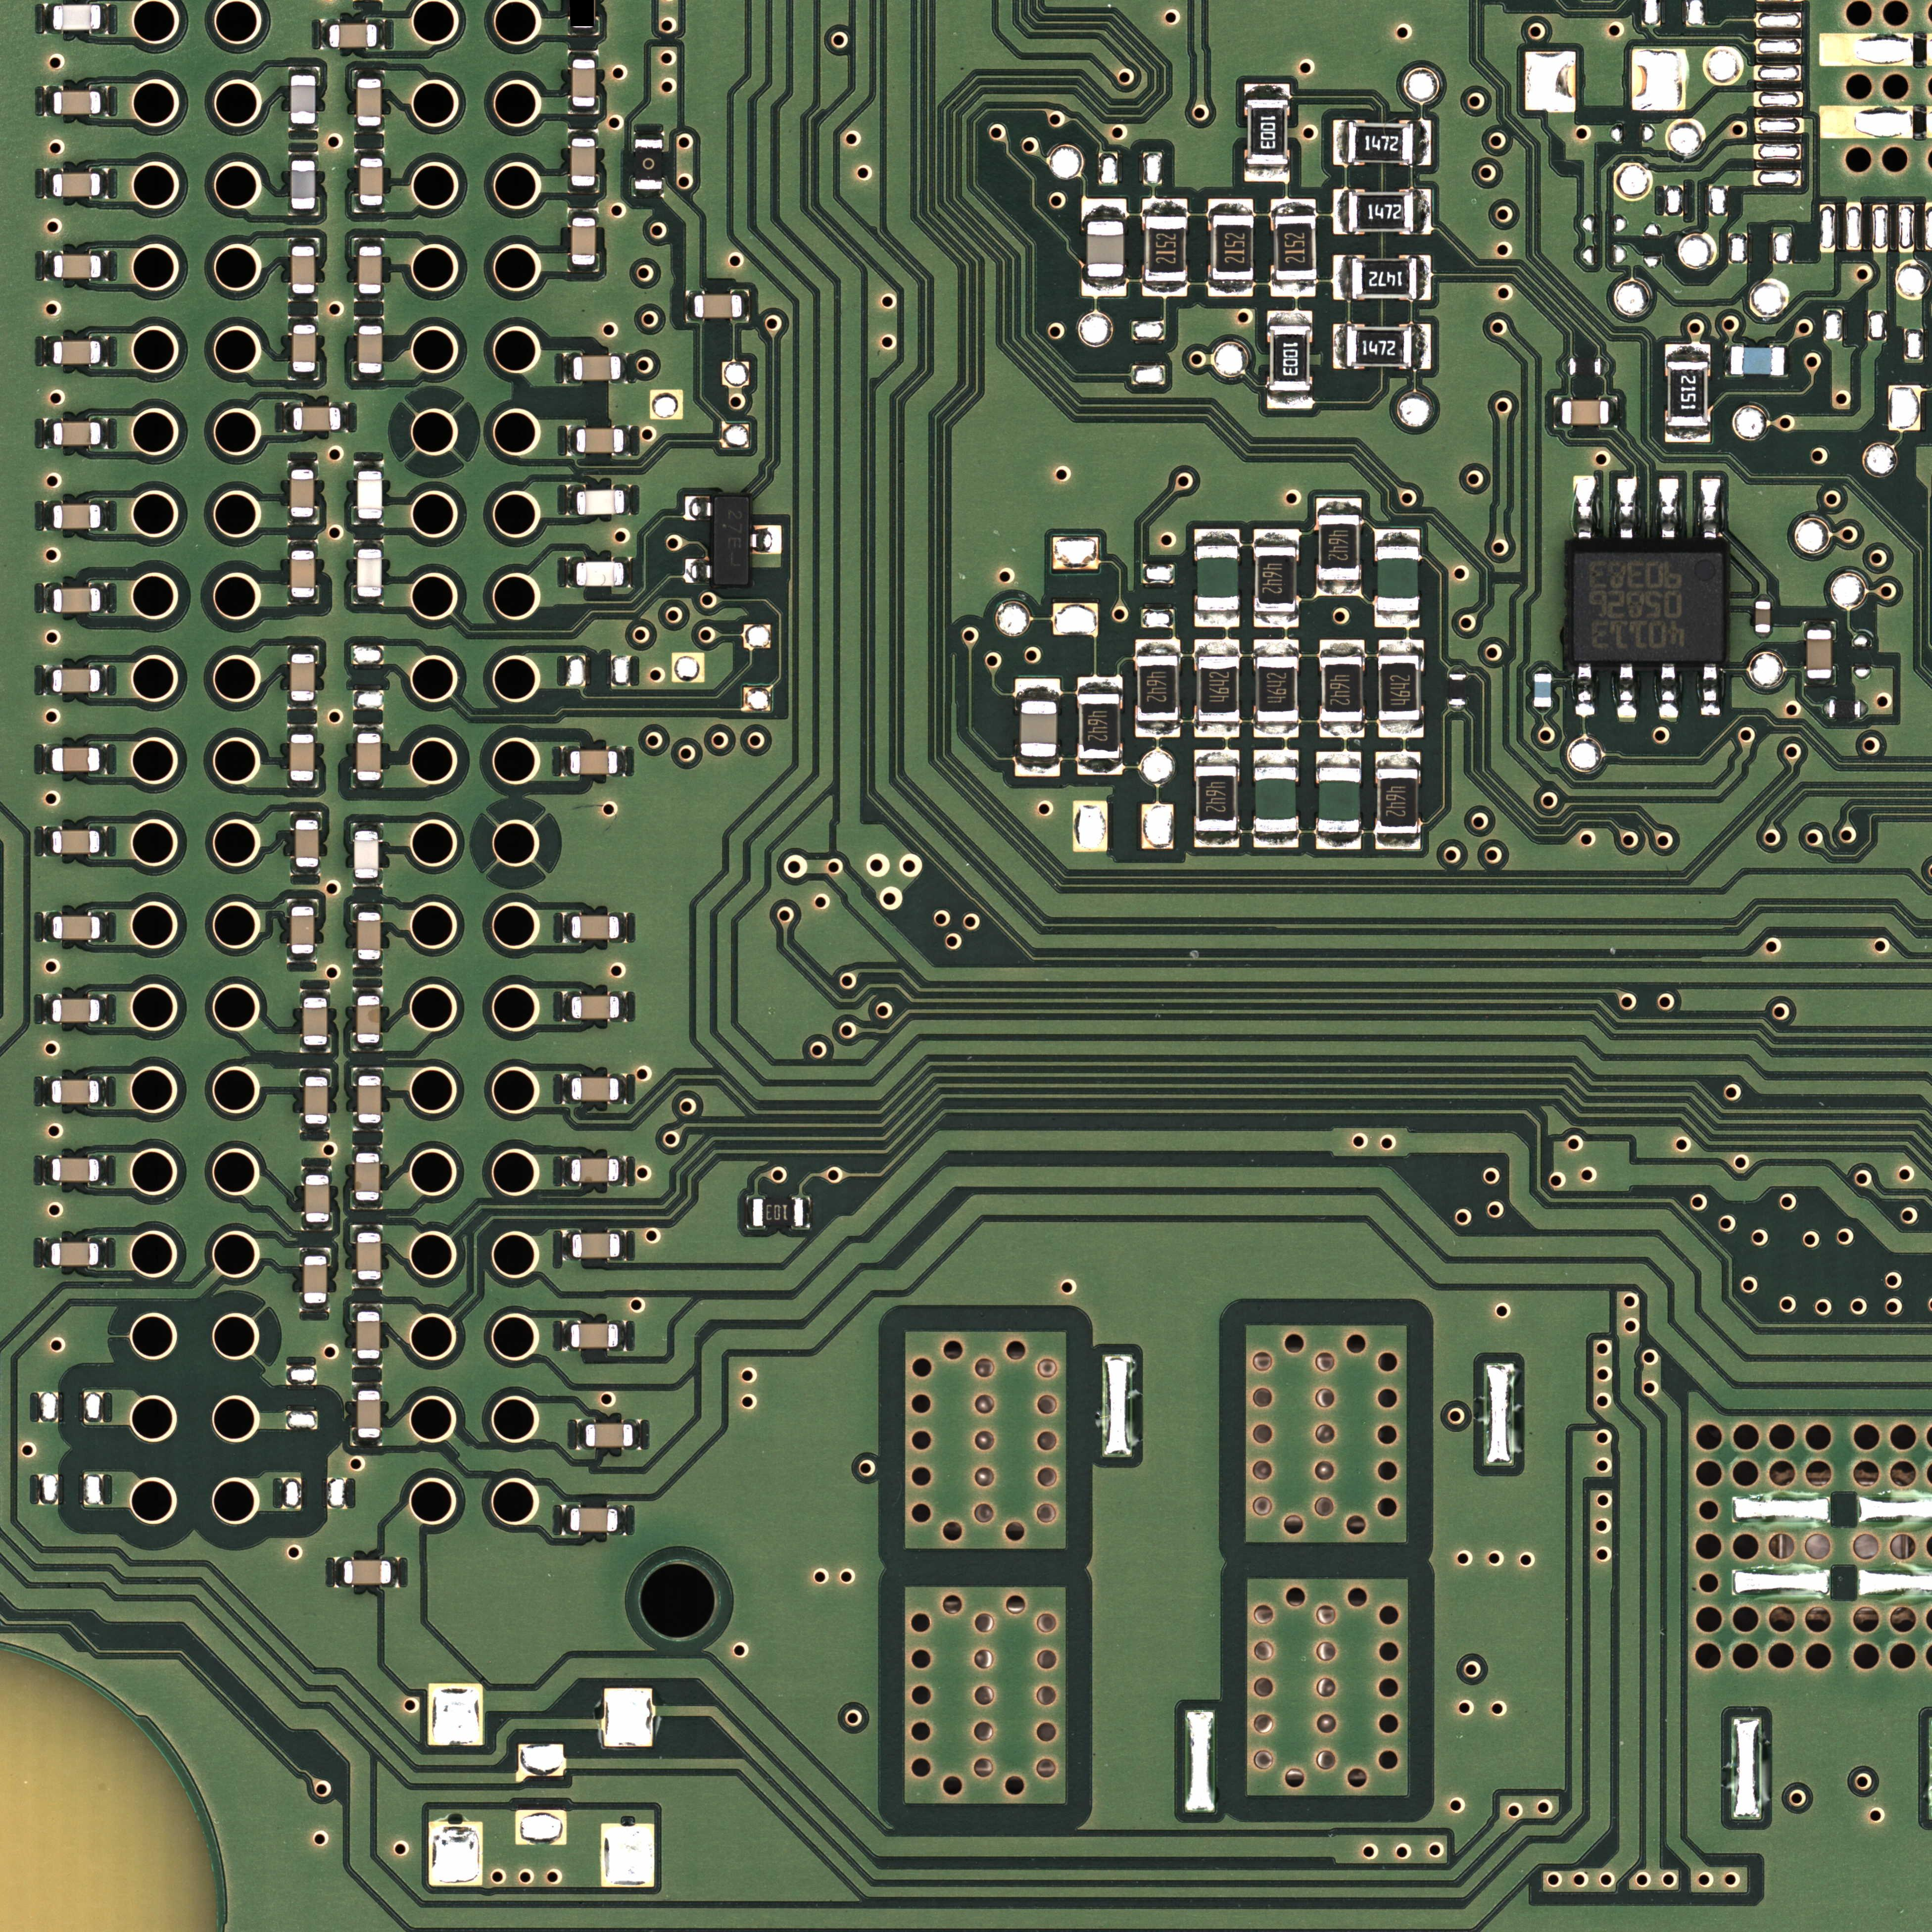Package: (1573, 551, 1723, 662), (714, 495, 749, 586), (1318, 515, 1360, 580), (1378, 546, 1419, 611), (1197, 546, 1239, 610), (1255, 768, 1297, 832), (1318, 768, 1360, 832), (1137, 656, 1178, 721), (1199, 657, 1239, 722), (1079, 695, 1120, 759), (1275, 216, 1316, 281), (1258, 657, 1298, 722), (1146, 217, 1186, 282), (1346, 328, 1412, 367), (1213, 216, 1253, 280), (1380, 656, 1420, 721), (1197, 767, 1237, 831), (1668, 363, 1708, 427), (1322, 658, 1362, 722), (1378, 769, 1417, 833), (1347, 124, 1413, 163), (1351, 260, 1416, 299), (1256, 547, 1295, 612), (1348, 194, 1414, 232), (1248, 101, 1286, 165), (1270, 327, 1309, 391), (1087, 222, 1124, 277), (1020, 702, 1057, 757), (1731, 347, 1784, 375), (753, 1200, 803, 1226), (635, 140, 662, 190), (356, 1232, 382, 1280), (577, 490, 625, 515), (53, 5, 100, 30), (291, 75, 316, 123), (573, 356, 621, 381), (572, 1233, 620, 1258), (1807, 630, 1832, 678), (355, 1153, 380, 1201), (357, 733, 382, 781), (357, 79, 382, 126), (305, 1175, 330, 1222), (571, 138, 595, 186), (51, 747, 99, 772), (571, 1324, 619, 1348), (358, 471, 382, 519), (291, 160, 315, 209), (1562, 400, 1609, 425), (53, 422, 100, 446), (343, 1560, 391, 1585), (53, 588, 100, 612), (571, 1159, 619, 1183), (357, 549, 382, 597), (355, 1388, 379, 1436), (290, 469, 314, 517), (304, 1256, 328, 1304), (571, 916, 619, 939), (51, 1080, 99, 1104), (52, 173, 100, 197), (570, 1508, 618, 1532), (570, 751, 618, 774), (354, 831, 379, 878), (303, 998, 328, 1045), (577, 429, 624, 453), (53, 504, 100, 529), (359, 326, 383, 373), (53, 340, 100, 364), (571, 1078, 619, 1102), (52, 669, 100, 693), (51, 1243, 98, 1266), (52, 916, 100, 939), (290, 734, 314, 781), (356, 1312, 380, 1359), (53, 91, 100, 114), (53, 255, 100, 279), (577, 563, 624, 586), (52, 999, 100, 1022), (52, 830, 100, 854), (571, 996, 619, 1019), (293, 407, 341, 431), (585, 1424, 633, 1448), (357, 913, 381, 960), (329, 24, 377, 48), (292, 325, 316, 372), (295, 820, 319, 867), (291, 654, 315, 701), (291, 906, 314, 954), (694, 294, 742, 318), (572, 59, 595, 106), (291, 246, 315, 293), (291, 550, 314, 597), (358, 1076, 381, 1123), (51, 1159, 98, 1182), (357, 996, 380, 1043), (572, 218, 595, 265), (305, 1077, 328, 1124), (360, 158, 383, 205), (359, 246, 382, 293), (1534, 673, 1551, 707), (1569, 359, 1602, 375), (1830, 700, 1860, 718), (1449, 674, 1466, 705), (1755, 601, 1771, 632)
Solder: (1574, 476, 1595, 539), (1701, 478, 1721, 539), (1658, 665, 1679, 722), (1659, 478, 1678, 539), (1618, 479, 1637, 539), (1573, 664, 1595, 716), (1617, 665, 1637, 721), (1700, 664, 1720, 716), (1082, 198, 1126, 220), (1015, 678, 1060, 700), (750, 526, 782, 554), (1015, 758, 1061, 777), (1082, 278, 1127, 297), (1267, 391, 1313, 409), (1413, 324, 1431, 369), (1414, 189, 1432, 235), (1207, 280, 1254, 297), (1379, 721, 1424, 738), (1414, 121, 1432, 165), (1333, 256, 1350, 300), (1077, 759, 1124, 775), (1665, 345, 1711, 362), (1143, 199, 1187, 216), (1136, 722, 1181, 738), (1665, 427, 1712, 443), (1254, 530, 1300, 546), (1254, 832, 1299, 848), (1196, 610, 1240, 627), (1244, 165, 1289, 182), (1254, 640, 1299, 656), (1255, 722, 1299, 738), (1195, 749, 1239, 766), (1254, 612, 1299, 628), (1254, 751, 1299, 767), (1271, 199, 1315, 215), (1379, 639, 1424, 655), (1196, 640, 1240, 656), (1195, 723, 1240, 738), (1375, 612, 1420, 628), (1195, 832, 1240, 847), (1320, 640, 1364, 656), (1317, 498, 1361, 514), (1377, 753, 1420, 769), (1376, 530, 1420, 545), (1317, 834, 1361, 849), (1137, 639, 1179, 655), (684, 559, 712, 583), (1376, 835, 1421, 850), (1317, 580, 1362, 595), (1078, 678, 1121, 693), (685, 496, 713, 520), (1271, 281, 1315, 295), (1195, 529, 1239, 544), (1317, 752, 1361, 767), (1244, 85, 1290, 99), (1320, 722, 1364, 737), (1143, 282, 1188, 296), (1333, 120, 1347, 165), (1209, 200, 1253, 214), (1417, 256, 1431, 300), (1268, 311, 1312, 325), (1334, 190, 1347, 234), (1333, 326, 1346, 368), (566, 484, 576, 515), (319, 19, 329, 50), (561, 912, 571, 943), (354, 460, 384, 471), (282, 403, 293, 432), (566, 425, 576, 456), (563, 353, 573, 384), (354, 148, 385, 158), (43, 4, 52, 34), (333, 1557, 343, 1587), (353, 316, 385, 326), (351, 1067, 384, 1076), (567, 557, 576, 587), (287, 954, 317, 963), (354, 69, 385, 79), (289, 540, 317, 550), (288, 460, 318, 469), (391, 1557, 401, 1588), (41, 1156, 50, 1185), (44, 85, 53, 116), (354, 539, 384, 549), (353, 724, 384, 733), (300, 1045, 332, 1054), (340, 403, 350, 432), (99, 1156, 109, 1185), (569, 208, 597, 217), (288, 316, 318, 325), (562, 1230, 571, 1260), (44, 251, 53, 281), (289, 66, 318, 75), (287, 725, 317, 734), (377, 20, 386, 49), (352, 1303, 382, 1311), (299, 1068, 333, 1076), (353, 987, 383, 996), (290, 372, 319, 381), (353, 903, 382, 912), (44, 418, 52, 448), (1553, 397, 1561, 428), (289, 517, 319, 526), (569, 50, 598, 59), (569, 265, 601, 273), (568, 129, 598, 138), (562, 1156, 571, 1186), (562, 1321, 571, 1351), (352, 1382, 382, 1391), (563, 1073, 571, 1104), (1609, 397, 1618, 425), (300, 989, 330, 997), (563, 991, 571, 1021), (44, 912, 52, 941), (353, 878, 383, 887), (351, 1201, 383, 1209), (352, 1224, 383, 1232), (289, 209, 320, 217), (350, 823, 384, 830), (351, 781, 384, 788), (44, 337, 52, 366), (685, 291, 693, 320), (353, 1144, 382, 1153), (302, 1166, 331, 1174), (43, 995, 51, 1024), (354, 205, 385, 213), (299, 1248, 330, 1256), (561, 746, 569, 776), (350, 1044, 383, 1051), (44, 584, 52, 613), (353, 960, 383, 968), (352, 1359, 383, 1367), (44, 665, 51, 695), (302, 1223, 332, 1231), (569, 107, 599, 115), (299, 1304, 330, 1311), (577, 1420, 585, 1450), (287, 646, 317, 654), (290, 812, 320, 820), (354, 374, 384, 382), (353, 519, 385, 526), (352, 597, 384, 605), (44, 169, 52, 198), (43, 1077, 51, 1107), (44, 827, 51, 857), (634, 190, 664, 198), (101, 4, 109, 32), (569, 187, 600, 194), (287, 781, 320, 788), (290, 238, 317, 246), (354, 294, 385, 301), (618, 1505, 626, 1536), (287, 701, 318, 709), (353, 1123, 384, 1131), (619, 1320, 626, 1351), (352, 1439, 383, 1447), (45, 501, 52, 530), (289, 124, 317, 132), (43, 1238, 50, 1267), (290, 868, 321, 875), (620, 1074, 627, 1104), (619, 1156, 627, 1186), (355, 126, 385, 134), (44, 745, 51, 774), (562, 1505, 570, 1535), (288, 294, 318, 301), (742, 291, 750, 319), (289, 152, 318, 160), (1805, 679, 1835, 686), (634, 131, 664, 139), (1806, 622, 1835, 629), (101, 336, 108, 367), (352, 1281, 384, 1288), (301, 1124, 330, 1132), (287, 899, 318, 906), (745, 1197, 752, 1228), (569, 28, 600, 35), (618, 746, 625, 776), (100, 994, 107, 1024), (100, 666, 107, 695), (99, 1239, 106, 1266), (100, 827, 107, 855), (620, 991, 626, 1022), (289, 598, 317, 605), (100, 501, 107, 530), (101, 168, 108, 199), (804, 1198, 810, 1228), (1724, 344, 1730, 377), (101, 583, 107, 613), (100, 1078, 107, 1105), (101, 418, 107, 447), (101, 86, 107, 115), (1785, 344, 1790, 378), (621, 913, 627, 943), (101, 251, 107, 279), (620, 1230, 626, 1260), (624, 557, 630, 587), (634, 1420, 640, 1449), (1533, 708, 1553, 717), (355, 239, 383, 245), (100, 745, 106, 773), (624, 426, 629, 456), (622, 353, 627, 383), (1534, 664, 1553, 673), (625, 484, 630, 516), (100, 913, 106, 940), (1823, 699, 1830, 719), (1861, 699, 1868, 718), (1601, 358, 1608, 376), (1755, 594, 1771, 601), (1755, 633, 1771, 639), (1449, 705, 1466, 710), (1449, 668, 1466, 674), (1564, 358, 1569, 375)
